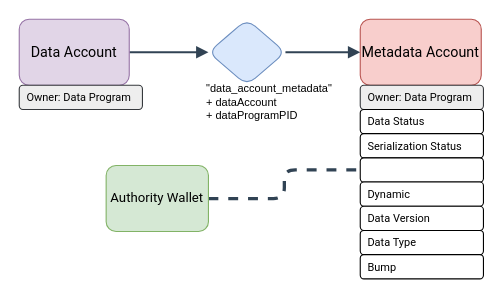
This 503x298 diagram has some shape labels left out. Here are the shapes that lost their labels. From the top down, the centre of each, then its label:
(246,51): PDA
(421,169): Authority
